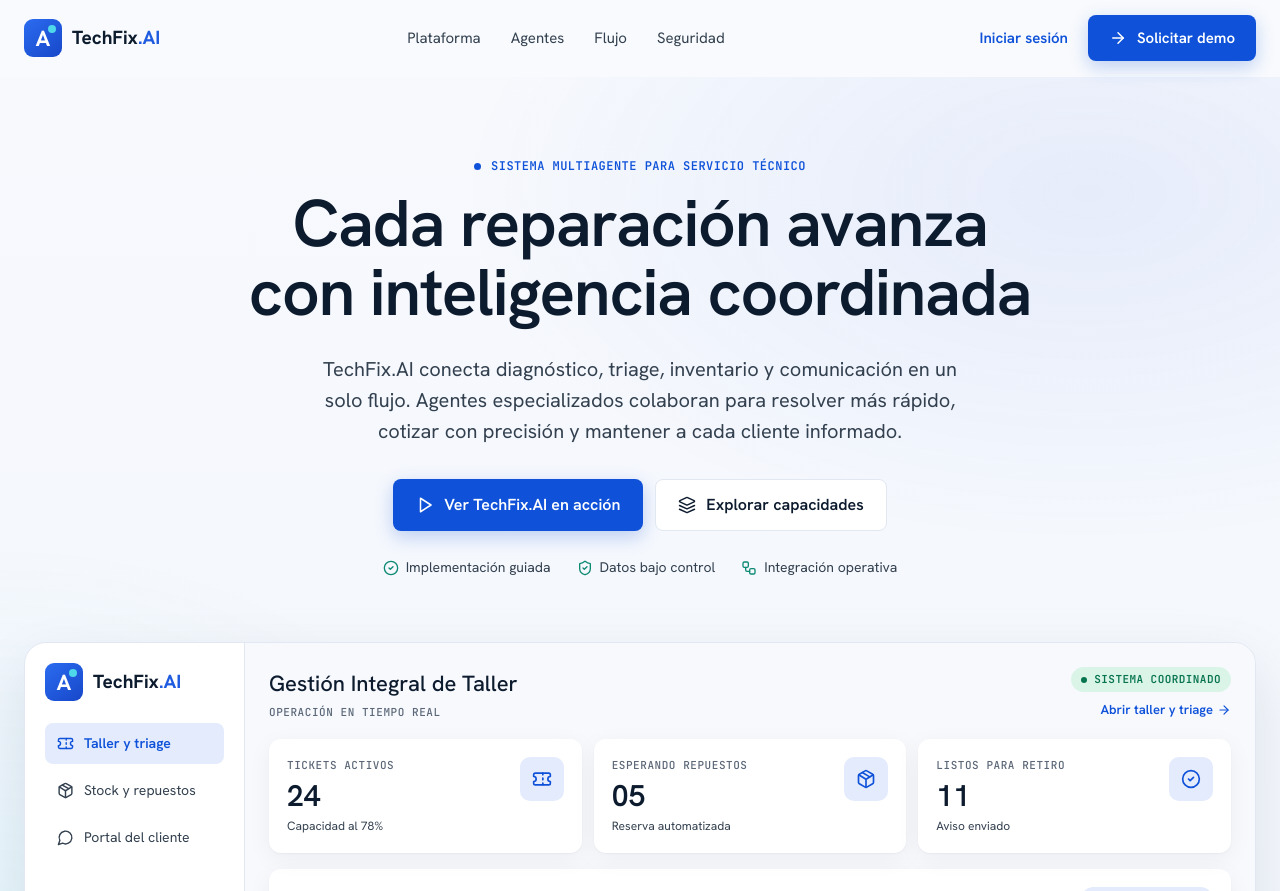
Test: navegación desde la landing › el botón Iniciar sesión de la landing lleva al acceso del portal
Click the link "Iniciar sesión". click: x=1024, y=38
box: x1=980 y1=28 x2=1068 y2=48
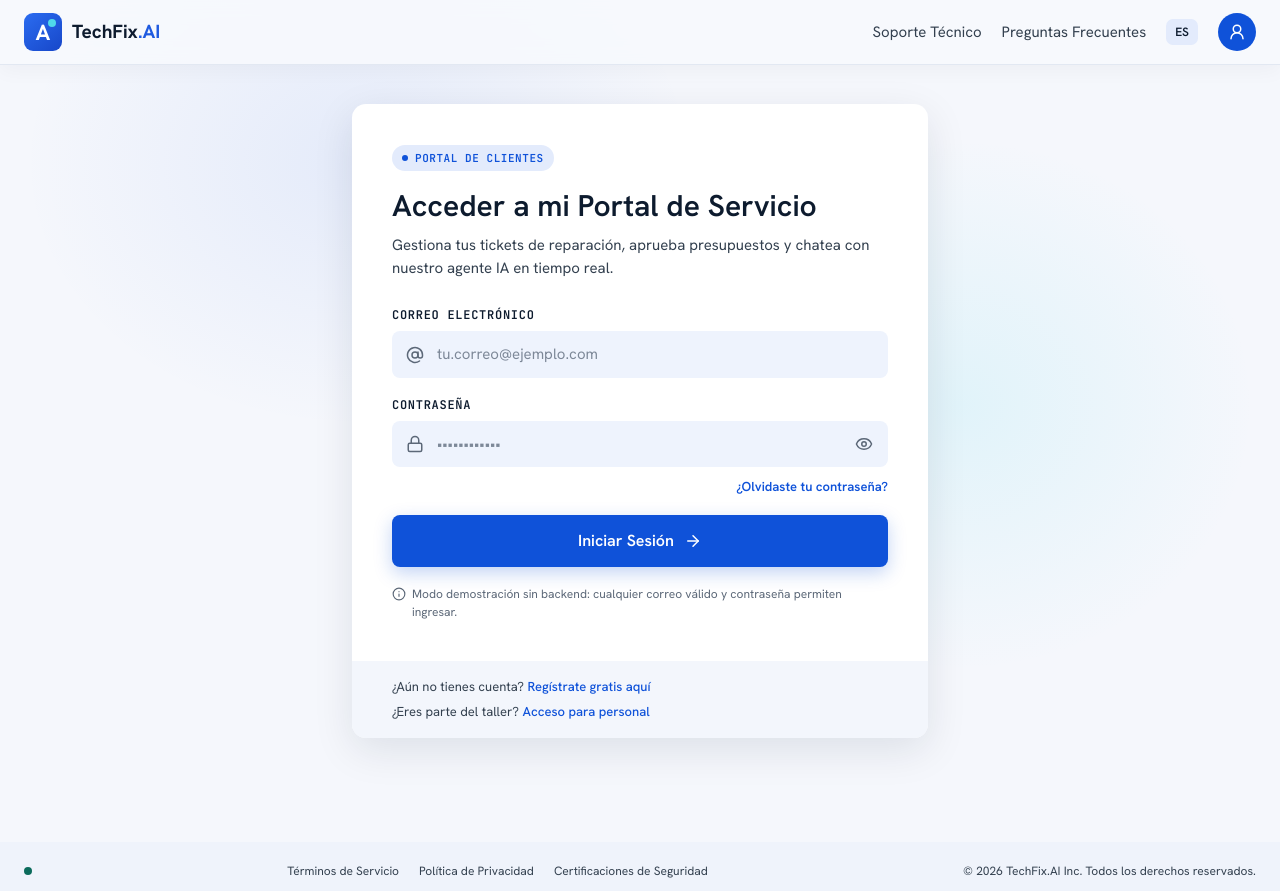
Expected: the heading "Acceder a mi Portal de Servicio" is shown, x1=392 y1=189 x2=888 y2=224
